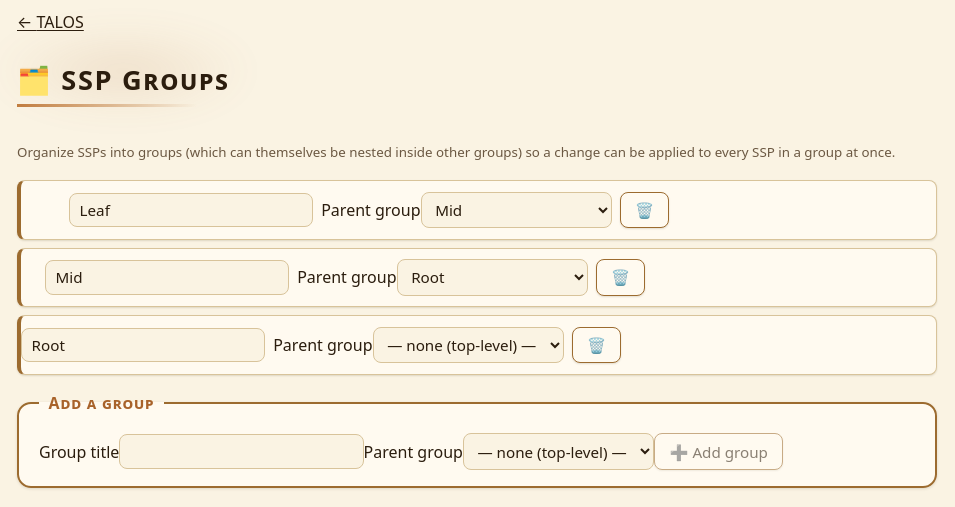
it: SspGroupsPage › deleting a group reparents its children (visible immediately in the list)
The image size is (955, 507).
Click the button named "Delete group".
click(621, 278)  # box [596,259,646,296]
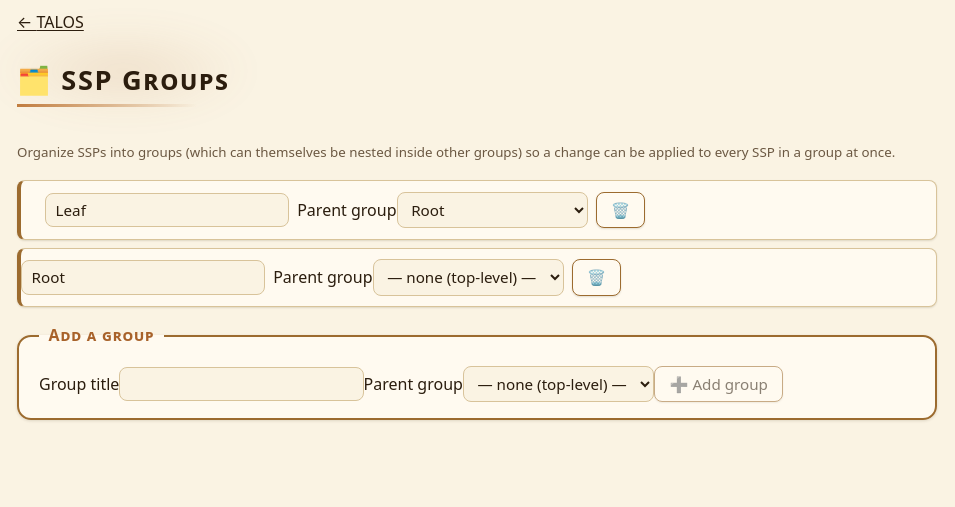
expect the number of list items with test id "ssp-group-row" is 2: met, box [17,180,937,240]; [17,248,937,307]
